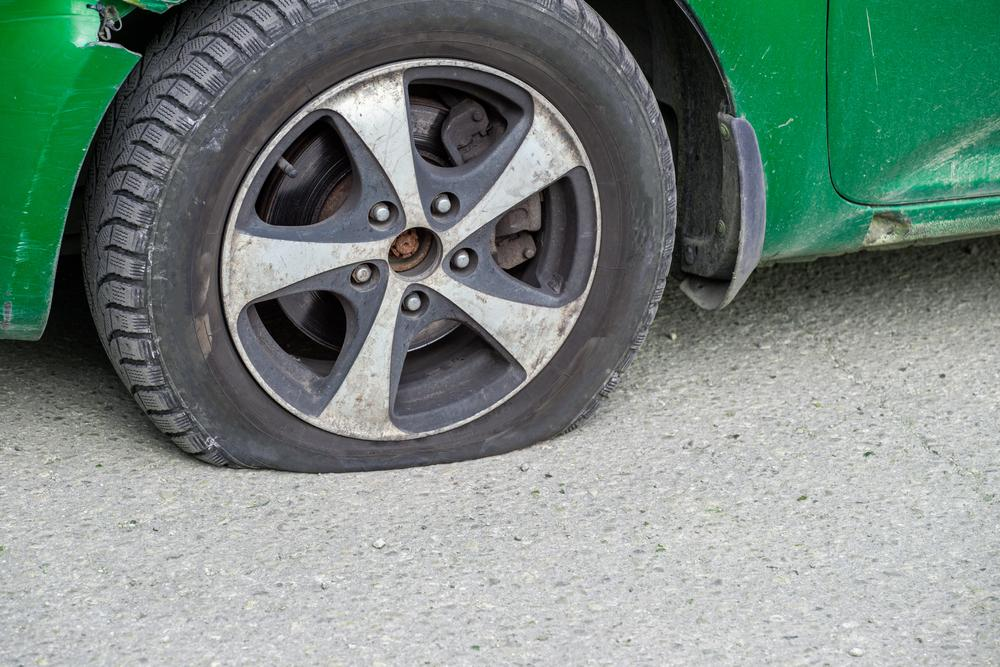scratch: (8, 86, 75, 280)
tire flat: (74, 0, 679, 475)
